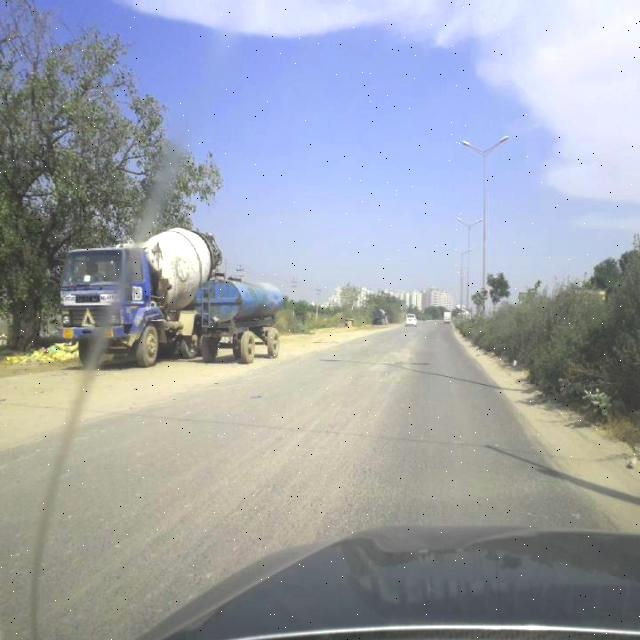D20: (167, 418, 406, 524)
